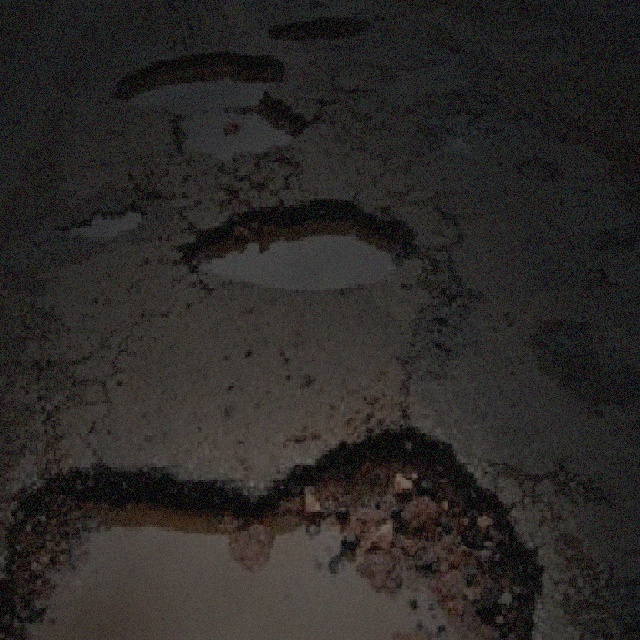pothole: (0, 420, 543, 637), (172, 192, 420, 288), (112, 47, 309, 158), (61, 203, 145, 239), (266, 15, 373, 43)
